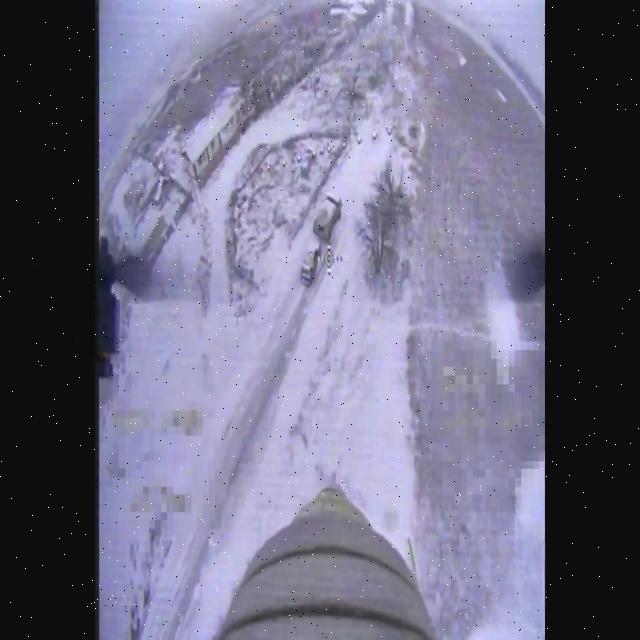Vehicle: (313, 193, 345, 243), (300, 249, 321, 295)
